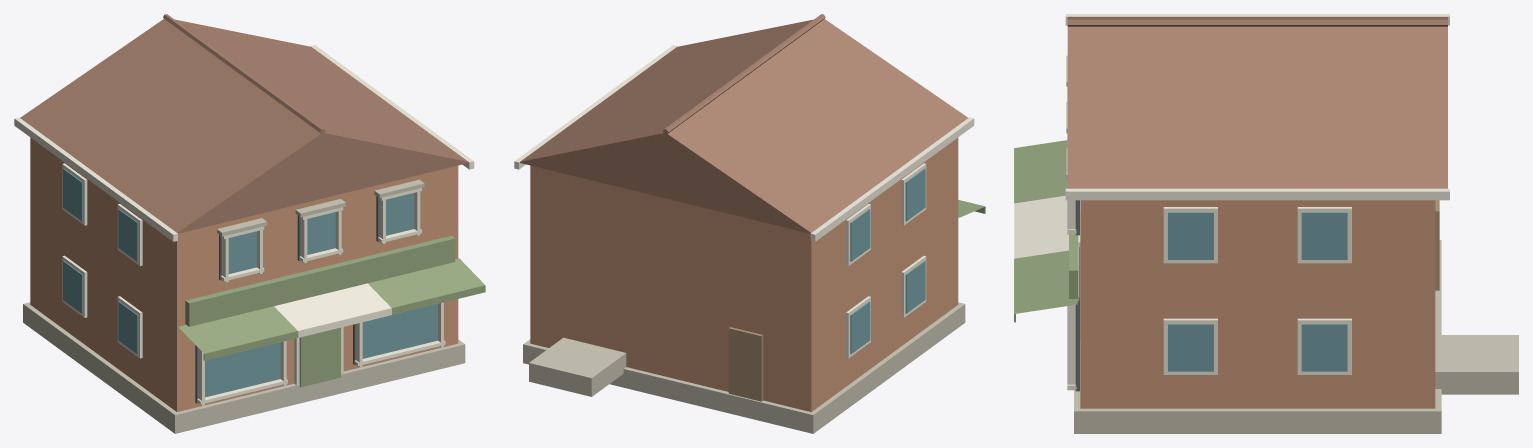
The picture shows the model from 3 angles, left to right: view 1: azimuth 30°, elevation 25°; view 2: azimuth 150°, elevation 25°; view 3: azimuth 270°, elevation 25°; orthographic projection. The views are drawn at different scales.
Size of the model in its own units: 10.06 by 8.66 by 12.09.
